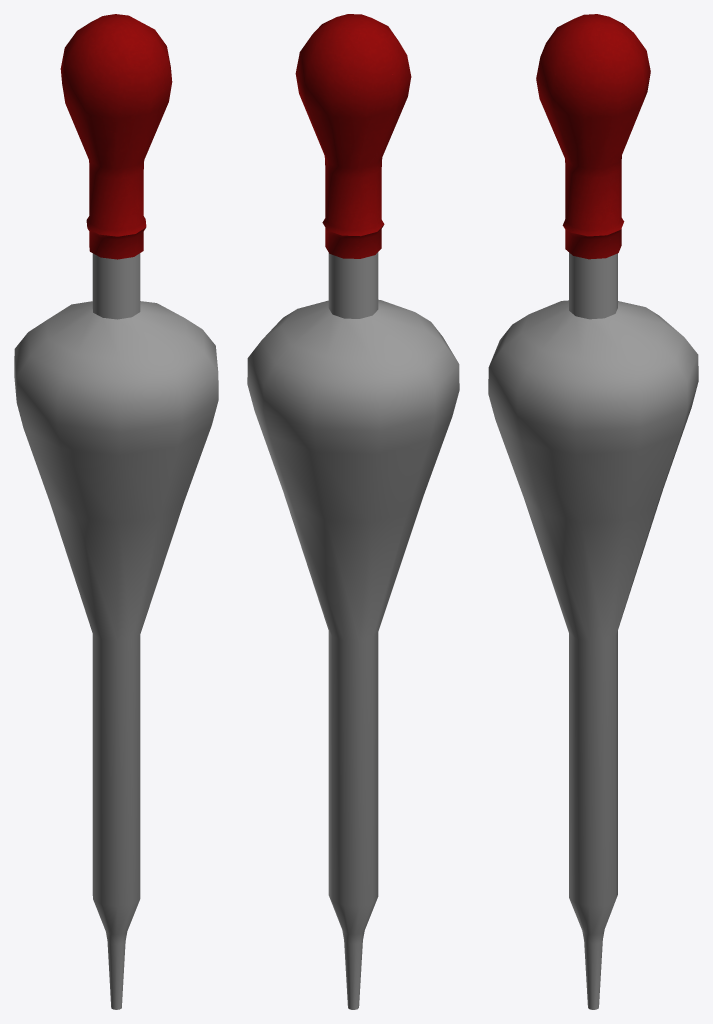
File: SM_甲基红胶头滴管.fbx
The picture shows the model from 3 angles, left to right: view 1: azimuth 30°, elevation 25°; view 2: azimuth 150°, elevation 25°; view 3: azimuth 270°, elevation 25°; orthographic projection.
Parts seen in each view (by area): view 1: SM_甲基红胶头滴管; view 2: SM_甲基红胶头滴管; view 3: SM_甲基红胶头滴管.
Part boxes in pixels (x1,y1,x2,y2): SM_甲基红胶头滴管: (14,14,218,1009); SM_甲基红胶头滴管: (247,14,459,1009); SM_甲基红胶头滴管: (488,14,698,1009).
Size of the model in its own units: 0.0222 by 0.1154 by 0.0223.
